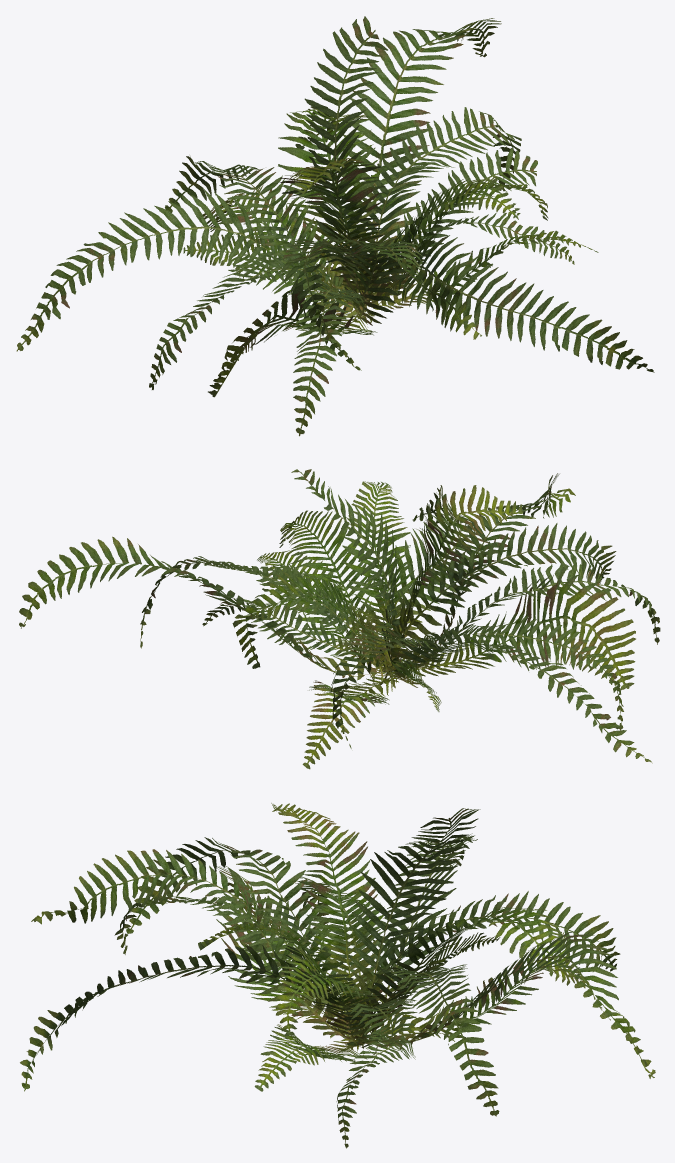
The model's file is samambaia_0.glb.
3 renders of one model, top to bottom at view 1: azimuth 30°, elevation 25°; view 2: azimuth 150°, elevation 25°; view 3: azimuth 270°, elevation 25°, orthographic. The views are drawn at different scales.
Parts seen in each view (by area): view 1: samambaia; view 2: samambaia; view 3: samambaia.
Part boxes in pixels (x1,y1,x2,y2): samambaia: [16, 16, 654, 436]; samambaia: [19, 469, 660, 769]; samambaia: [20, 803, 655, 1148].
Bounding box in the file's own units: 0.9897 × 0.422 × 0.8937.
Materials: 1 (1 with a texture image).
